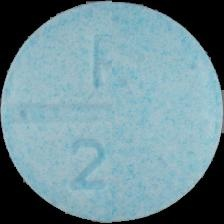68258-6010: (0, 0, 224, 224)
